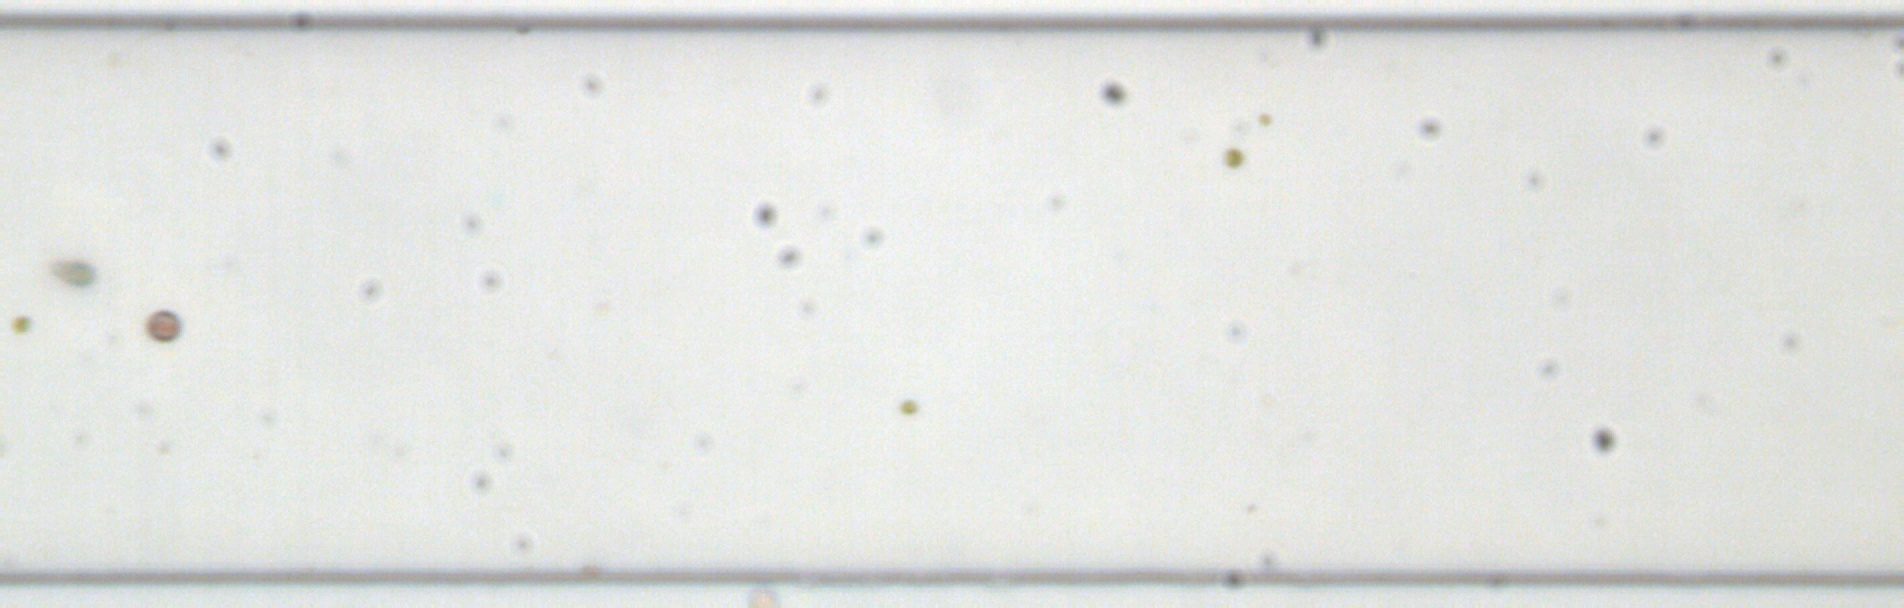Chlorella: (1222, 146, 1245, 169), (11, 312, 32, 333), (897, 396, 917, 416), (1256, 114, 1275, 130)
Dunaliella salina: (42, 258, 98, 288)
Porphyridium: (143, 307, 180, 342)
